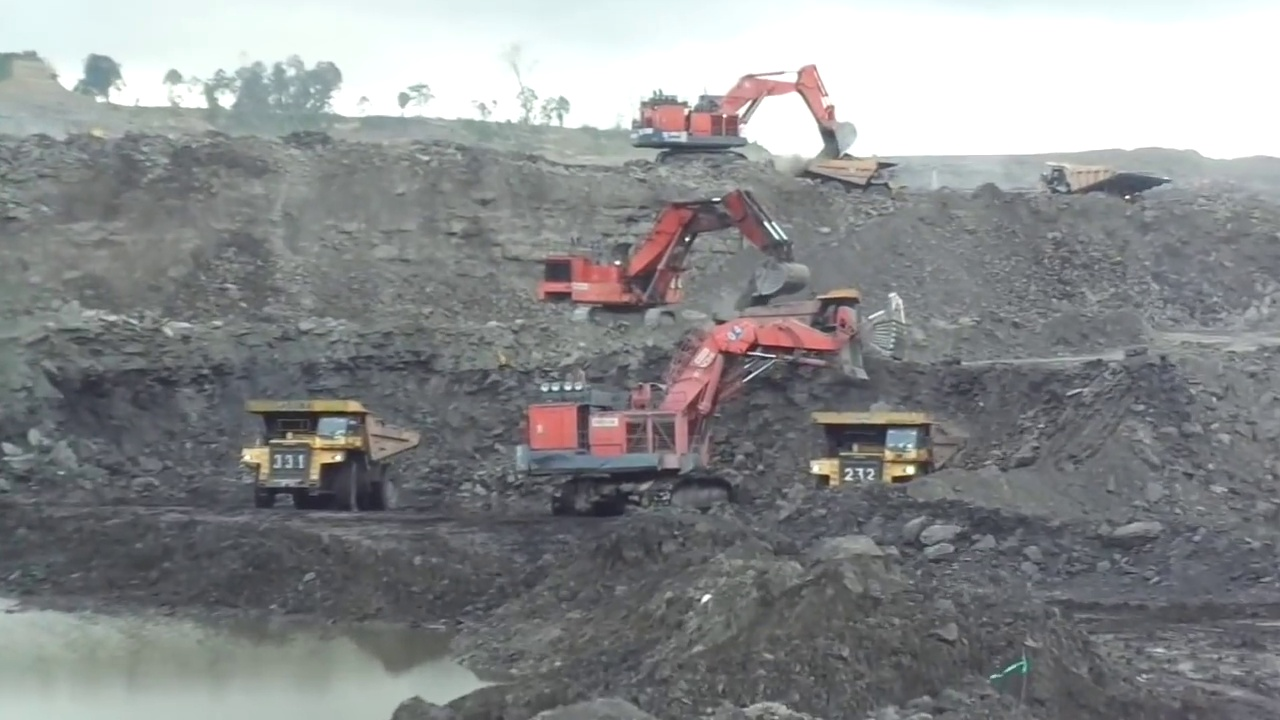dumper: (240, 394, 422, 518), (807, 404, 971, 498), (1042, 155, 1172, 201), (808, 150, 900, 197)
excavator: (514, 305, 868, 523), (540, 187, 811, 333), (630, 63, 860, 179)
